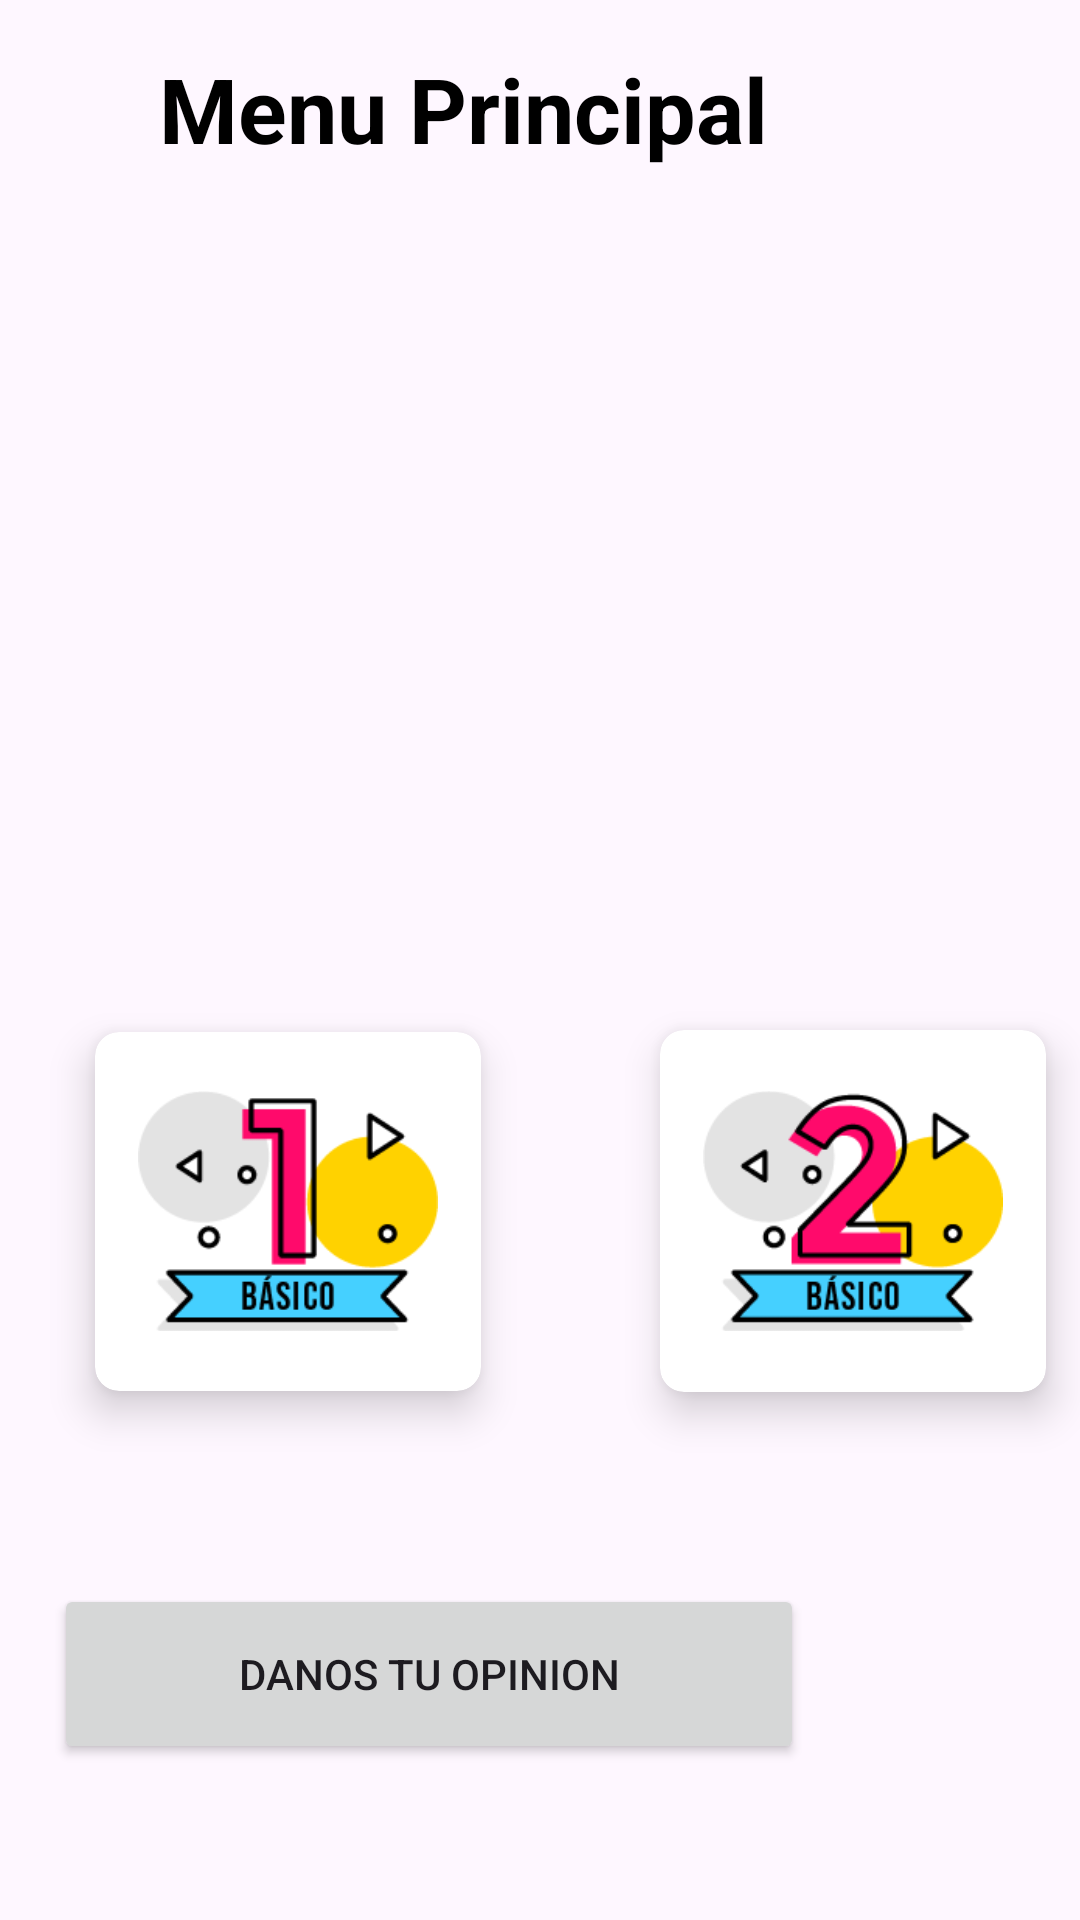

Icons on this 1080 x 1920 Android screen, each with the point to tap as (x=x, y=y):
primero: (x=289, y=1211)
segundo: (x=854, y=1211)
